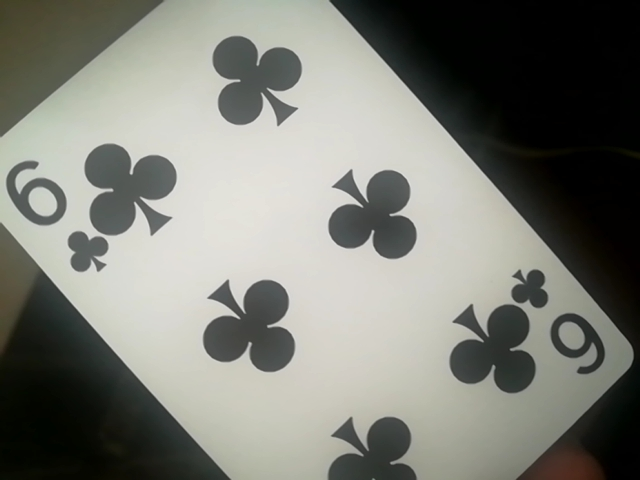mh 6: (0, 11, 626, 475)
